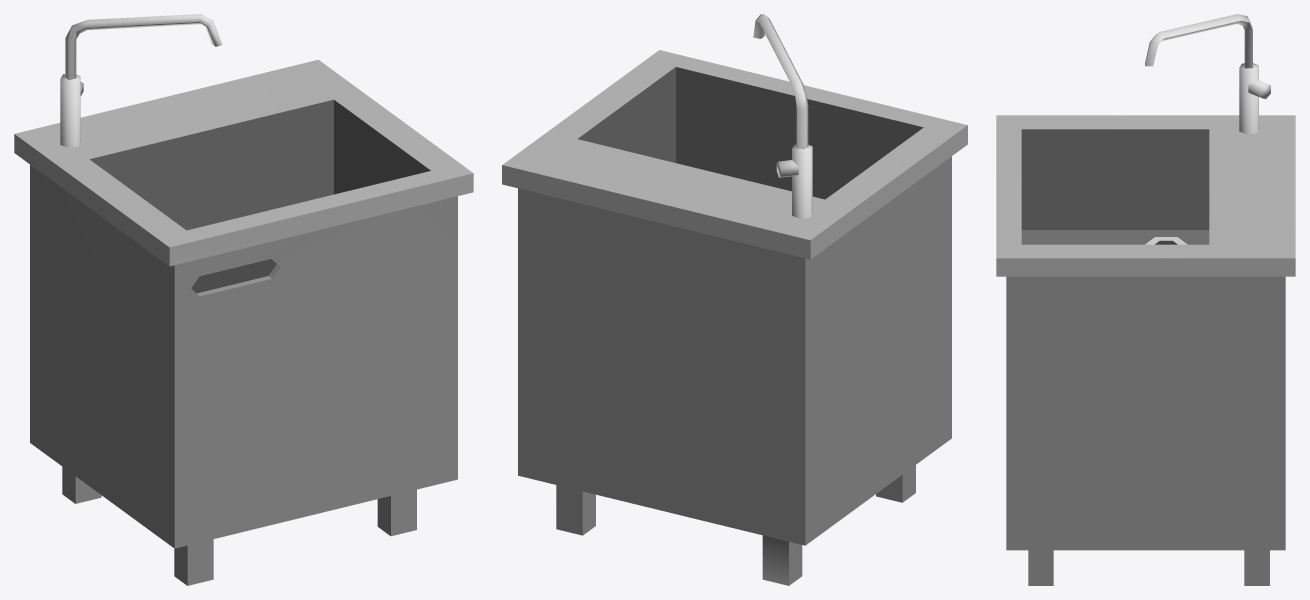
File: Lavabo.obj
3 views of the same model, side by side, from view 1: azimuth 30°, elevation 25°; view 2: azimuth 150°, elevation 25°; view 3: azimuth 270°, elevation 25° (orthographic). The views are drawn at different scales.
Parts seen in each view (by area): view 1: kitchen_sink_001; view 2: kitchen_sink_001; view 3: kitchen_sink_001.
Part boxes in pixels (left/top/right/bottom): kitchen_sink_001: left=14, top=14, right=473, bottom=585; kitchen_sink_001: left=502, top=14, right=967, bottom=585; kitchen_sink_001: left=996, top=14, right=1295, bottom=585.
Bounding box in the file's own units: 4.25 × 6.7 × 3.75.
Materials: 1 (1 with a texture image).
